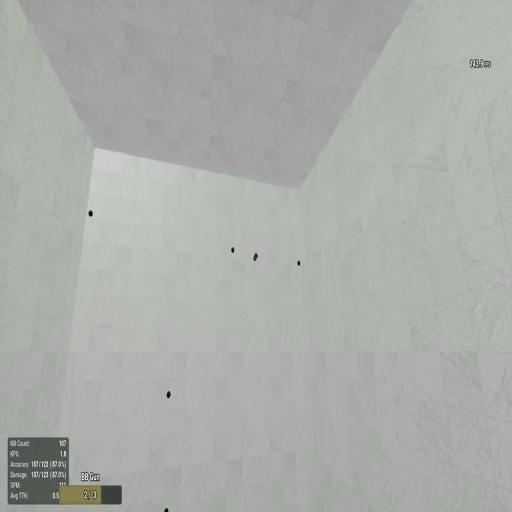Crosshair: (254, 251, 258, 261)
Target: (166, 390, 171, 399), (88, 210, 93, 217), (297, 260, 301, 267), (253, 255, 257, 261), (230, 247, 234, 253), (164, 508, 169, 511)
